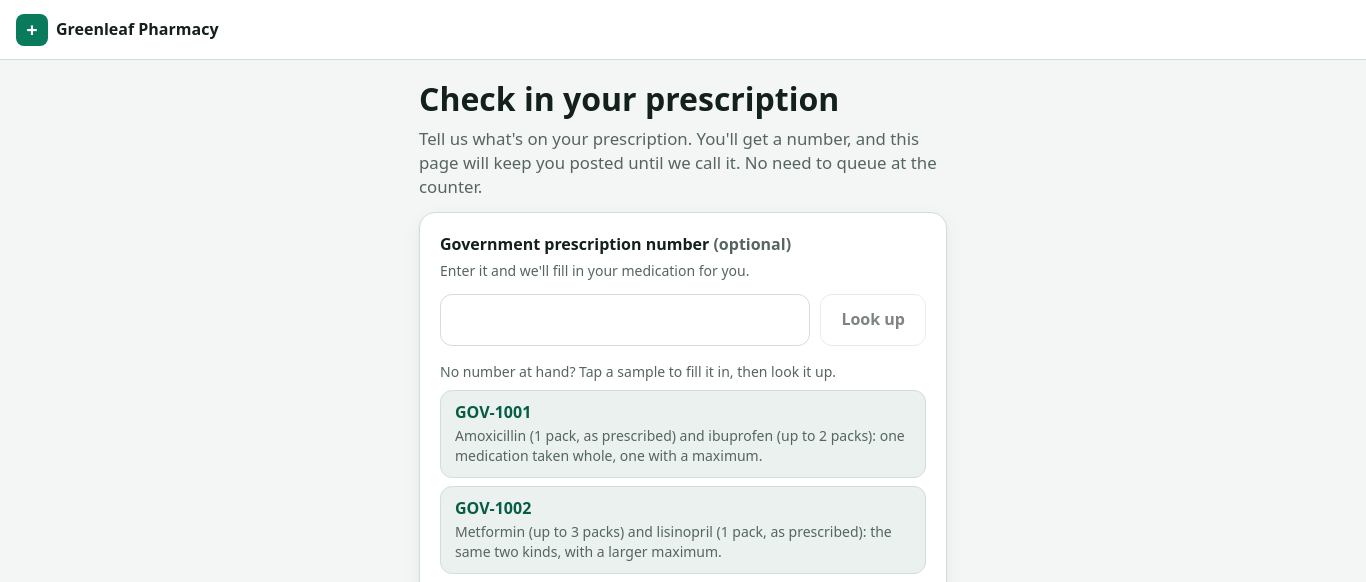
check-in with a government prescription › stops at what the pharmacy has in stock, and says what it does not carry at all
The width and height of the screenshot is (1366, 582).
Type "GOV-1003" into the field labelled "Government prescription number (optional)" at [625, 320], box 440,294 -> 810,346
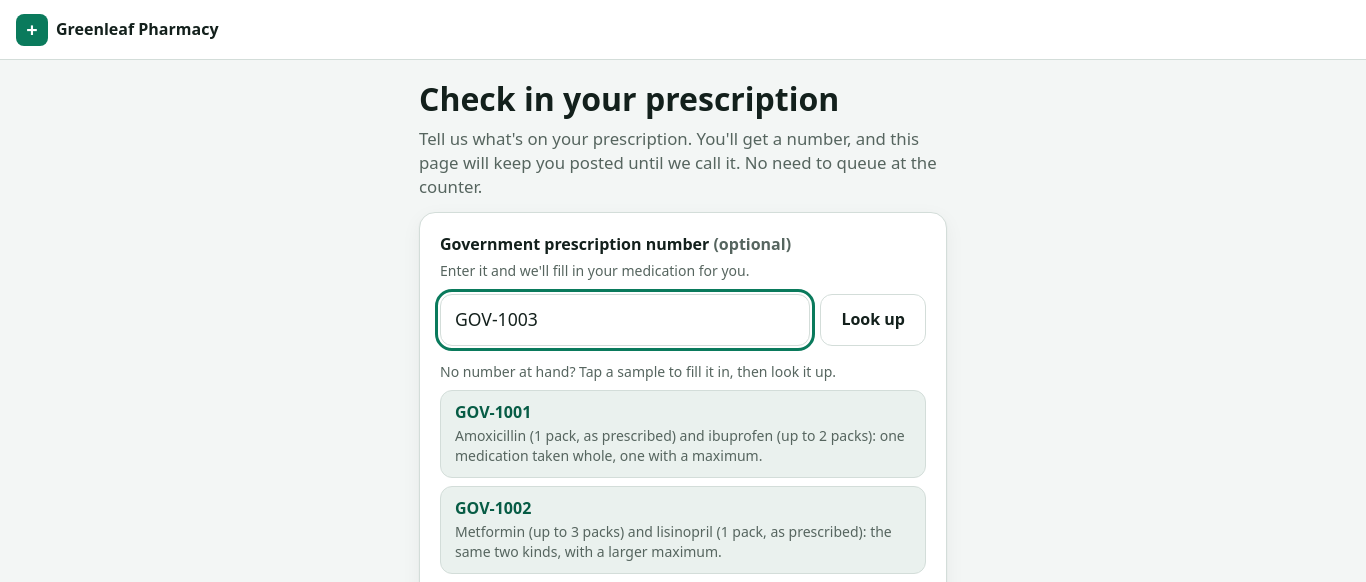
Click the button "Look up" at [873, 320], box 820,294 -> 926,346
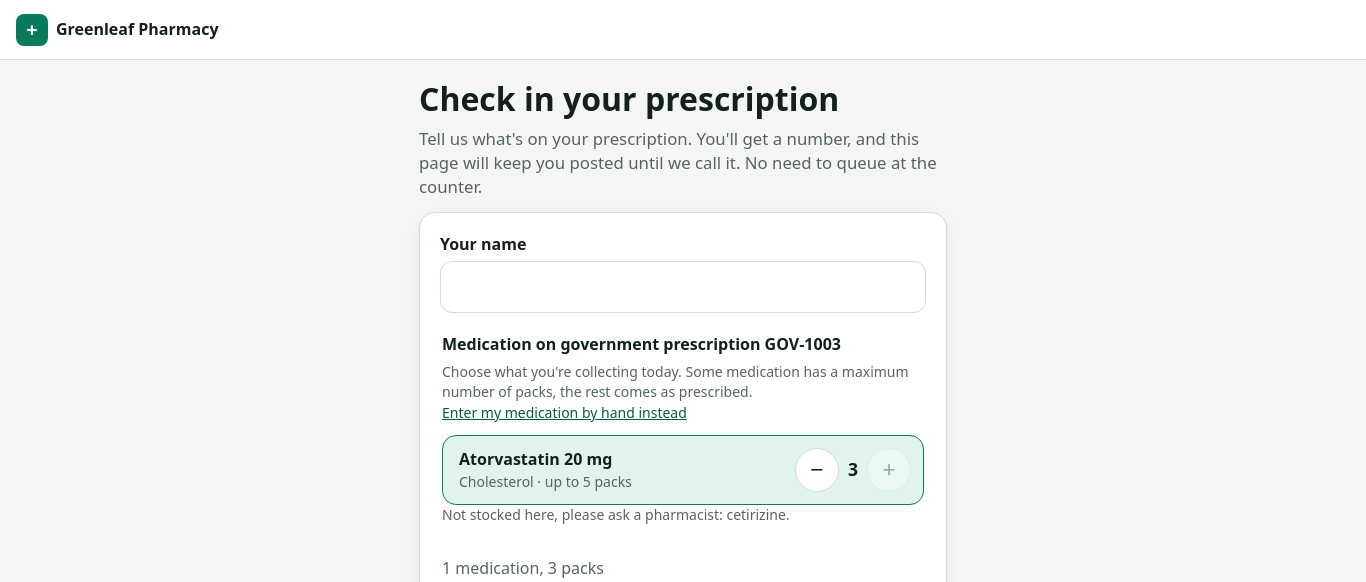
Expected: the text "Cholesterol · up to 5 packs" is shown, 459,472 -> 632,490
Expected: the text "1 medication, 3 packs" is shown, 442,557 -> 604,579
Expected: the text "Not stocked here, please ask a pharmacist: cetirizine." is shown, 442,505 -> 790,524
